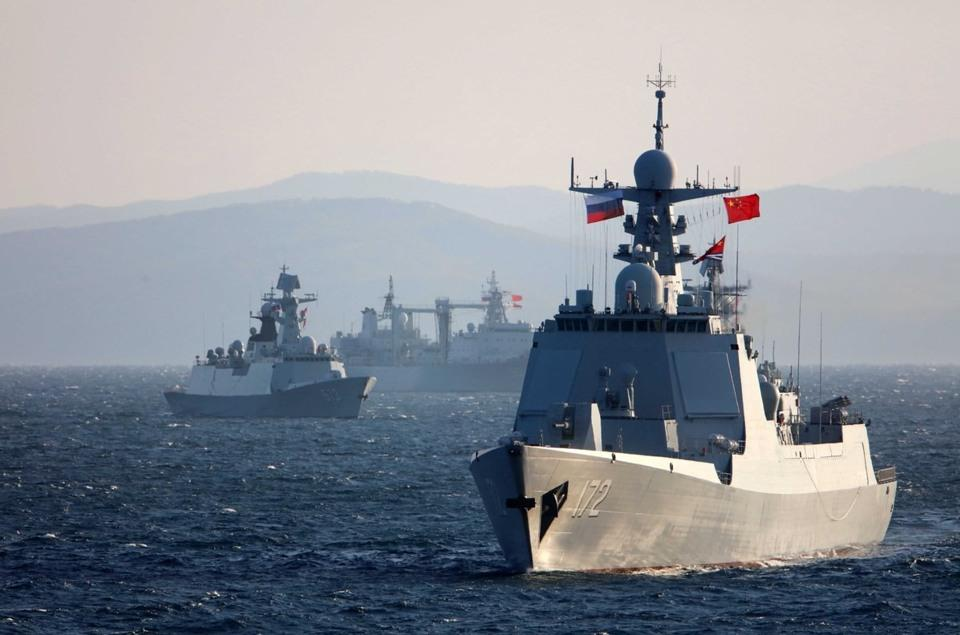MIL_Ship: (470, 56, 898, 580), (155, 252, 375, 424), (330, 259, 533, 393)
